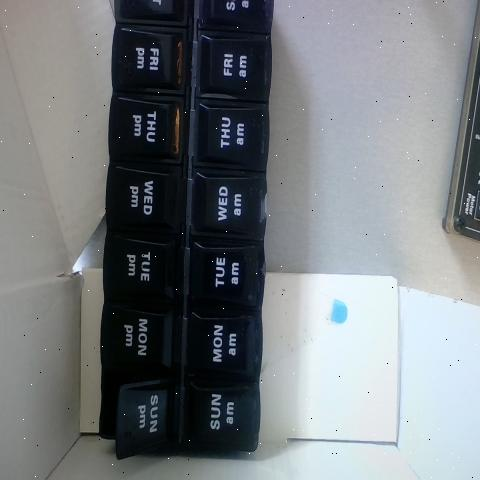FRI-am: (203, 33, 270, 96)
FRI-pm: (116, 27, 183, 94)
MON-am: (192, 315, 261, 376)
MON-pm: (102, 304, 170, 370)
Open: (101, 371, 167, 457)
SUN-am: (188, 381, 259, 447)
SUN-pm: (121, 386, 175, 453)
THU-am: (197, 99, 271, 167)
THU-pm: (112, 94, 183, 163)
TUE-am: (194, 240, 263, 306)
TUE-pm: (106, 237, 174, 296)
WED-am: (196, 174, 267, 236)
WED-pm: (109, 166, 175, 233)
